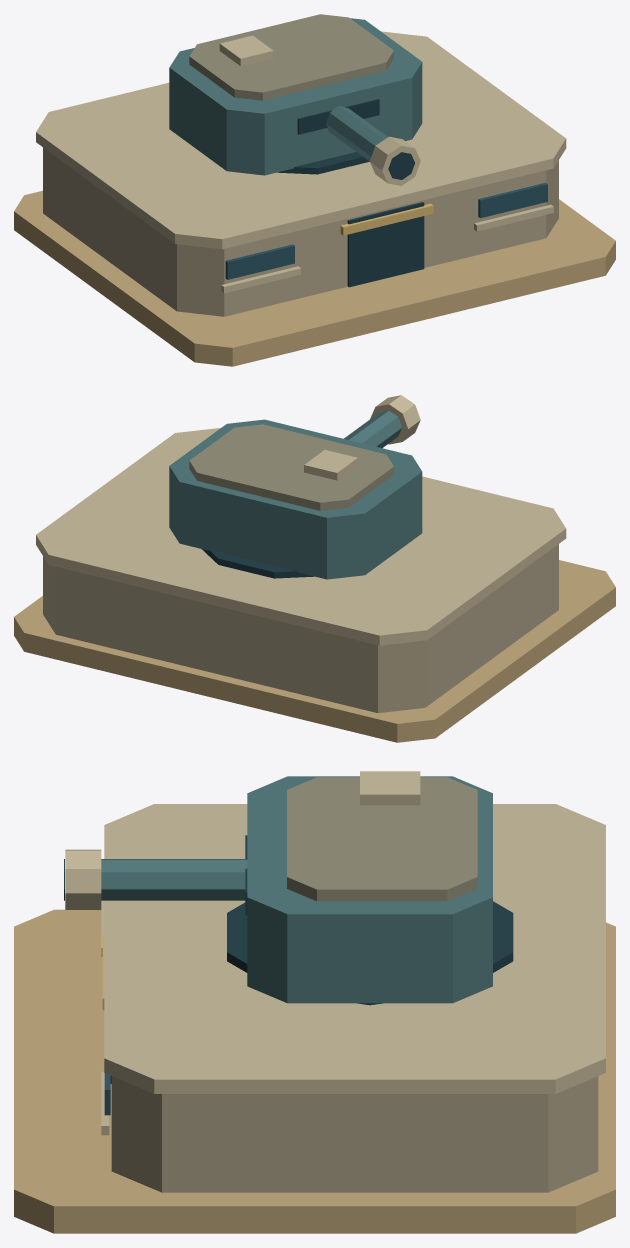
Rendered from coastal-coastal-gun.glb.
3 renders of one model, top to bottom at view 1: azimuth 30°, elevation 25°; view 2: azimuth 150°, elevation 25°; view 3: azimuth 270°, elevation 25°, orthographic. The views are drawn at different scales.
Visible parts, largest first — view 1: intact_structure, turret, barrel; view 2: intact_structure, turret, barrel; view 3: intact_structure, turret, barrel.
Boxes of the visible parts, <box> form: intact_structure: <box>14,31,615,366</box>; turret: <box>169,14,422,175</box>; barrel: <box>326,106,420,185</box>; intact_structure: <box>14,428,615,742</box>; turret: <box>169,419,422,579</box>; barrel: <box>344,395,420,448</box>; intact_structure: <box>14,804,615,1233</box>; turret: <box>245,771,492,1003</box>; barrel: <box>64,849,247,909</box>.
Size of the model in its own units: 7 by 3 by 6.
